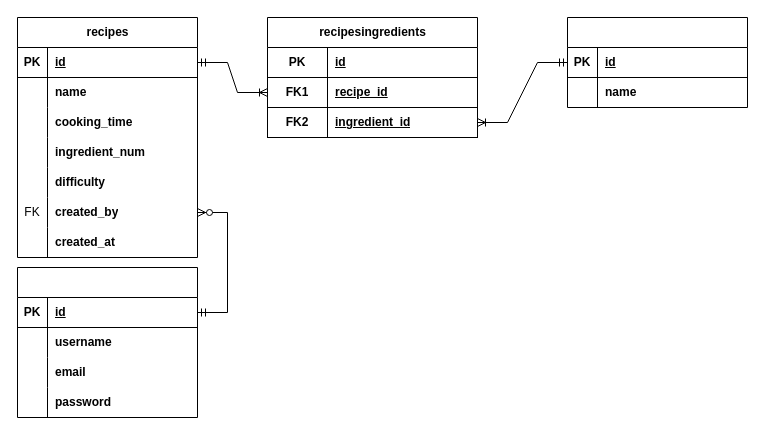
Image size: 765x435. Some labels were removed from this diagram. The box of each missing label's shape, as (x1, y1, x2, y2) in pixels:
ingredients: (566, 16, 748, 108)
users: (16, 266, 198, 418)
